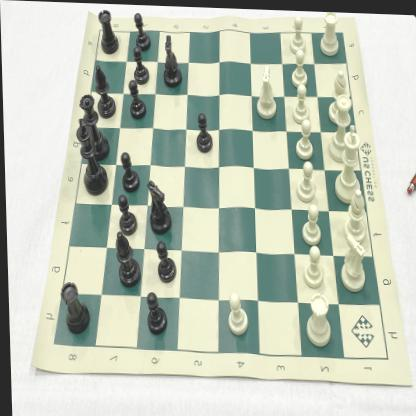black-bishop: (114, 233, 140, 286), (94, 64, 115, 118)
black-king: (74, 116, 108, 196)
black-knight: (146, 176, 172, 235), (162, 32, 183, 87)
black-pawn: (144, 290, 166, 334), (154, 238, 176, 282), (115, 192, 136, 235), (194, 110, 214, 153), (120, 149, 139, 190), (134, 9, 152, 50), (128, 80, 146, 118), (132, 46, 150, 84)
black-queen: (77, 92, 108, 160)
black-rook: (57, 278, 88, 335), (96, 7, 120, 54)
white-bishop: (341, 184, 365, 242), (326, 66, 348, 122)
white-king: (333, 120, 362, 201)
white-knight: (338, 226, 366, 290), (252, 59, 278, 122)
white-pawn: (298, 202, 324, 248), (301, 244, 326, 288), (291, 116, 316, 158), (224, 290, 246, 335), (294, 158, 317, 200), (290, 82, 312, 121), (288, 47, 310, 86), (289, 13, 306, 52)
white-queen: (326, 90, 354, 160)
white-rook: (303, 288, 330, 344), (318, 9, 341, 55)
